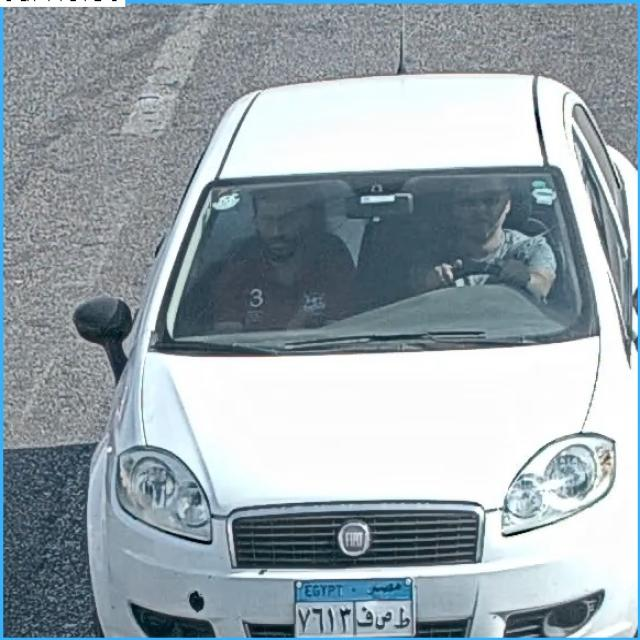windshield: (167, 180, 598, 340)
